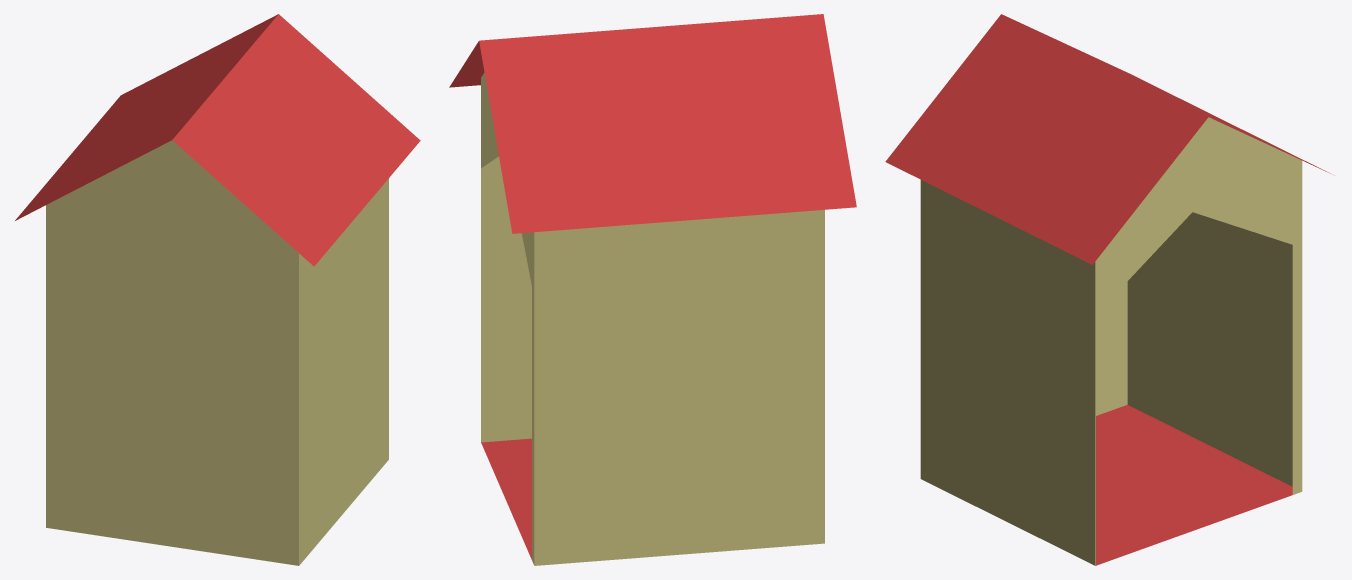
3 renders of one model, left to right at view 1: azimuth 30°, elevation 25°; view 2: azimuth 150°, elevation 25°; view 3: azimuth 270°, elevation 25°, orthographic. The views are drawn at different scales.
Parts seen in each view (by area): view 1: group_5, group_3, group_4; view 2: group_5, group_3, group_4, group_6; view 3: group_5, group_3, group_6, group_4.
Boxes of the visible parts, <box> form: group_5: <box>46,140,388,565</box>; group_3: <box>15,14,420,265</box>; group_4: <box>84,14,358,266</box>; group_5: <box>481,72,824,565</box>; group_3: <box>479,14,856,233</box>; group_4: <box>449,14,822,233</box>; group_6: <box>481,438,531,559</box>; group_5: <box>920,117,1302,565</box>; group_3: <box>886,14,1301,264</box>; group_6: <box>1096,405,1292,565</box>; group_4: <box>885,14,1330,206</box>.
Size of the model in its own units: 18.03 by 18.04 by 18.57.
